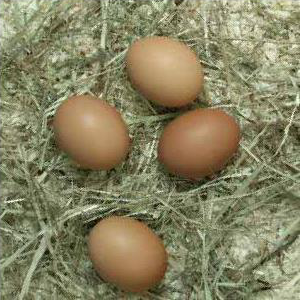egg: (87, 215, 169, 293), (156, 108, 241, 182), (52, 95, 130, 172), (126, 36, 205, 108)
